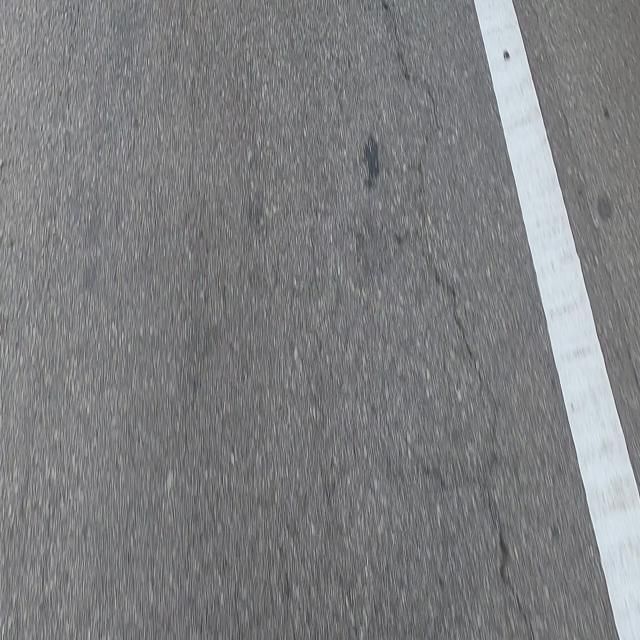Retak-Memanjang: (375, 0, 537, 640)
